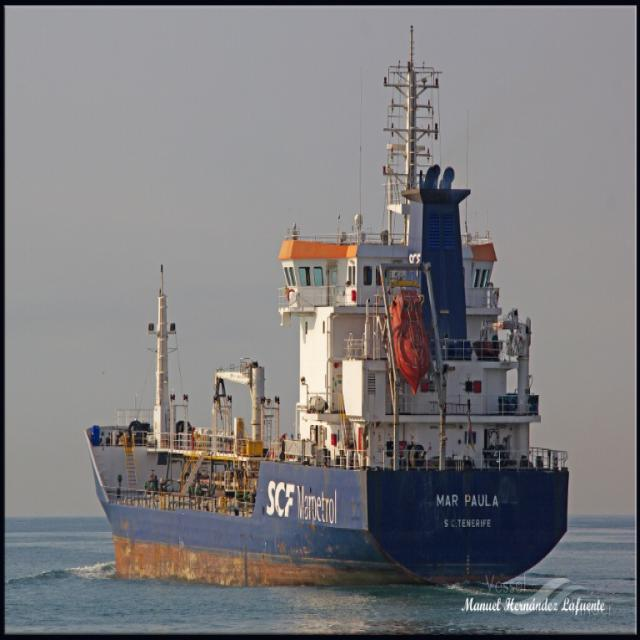OCR: (261, 470, 349, 534), (434, 482, 505, 538)
